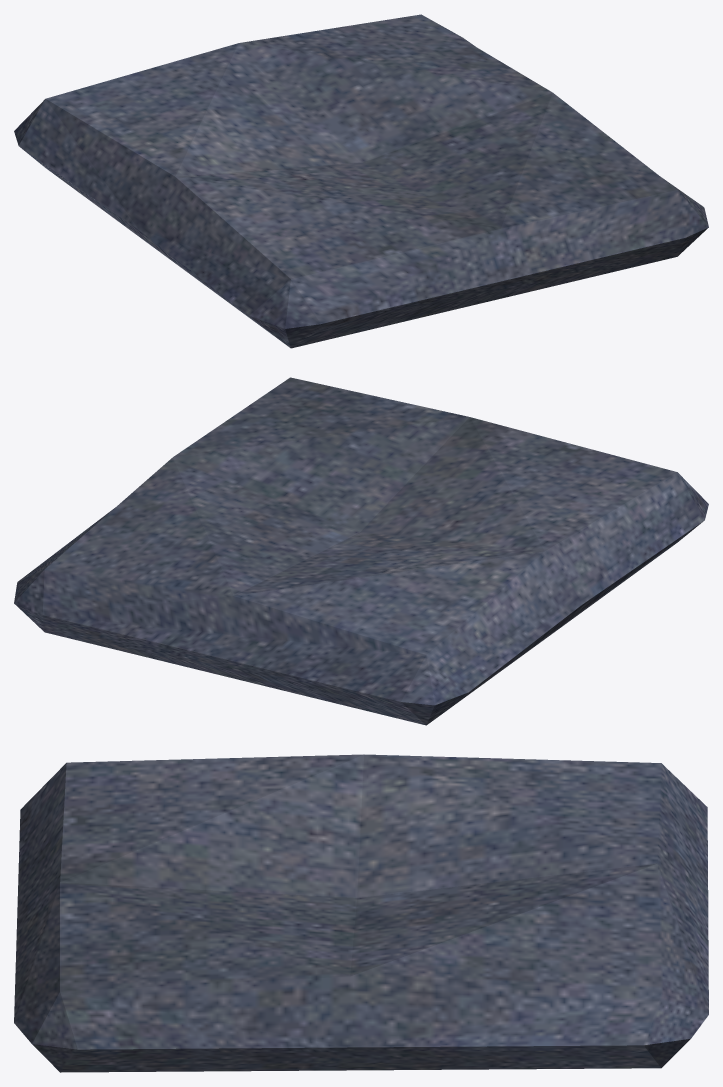
The model's file is frn_all_throwpillow_med_s03_l0.fbx.
3 views of the same model, one above another, from view 1: azimuth 30°, elevation 25°; view 2: azimuth 150°, elevation 25°; view 3: azimuth 270°, elevation 25° (orthographic). The views are drawn at different scales.
Visible parts, largest first — view 1: mesh_node; view 2: mesh_node; view 3: mesh_node.
Part boxes in pixels (x1,y1,x2,y2): mesh_node: (14,14,708,348); mesh_node: (14,377,708,725); mesh_node: (14,754,708,1072).
Size of the model in its own units: 1.25 by 0.2107 by 1.38.
